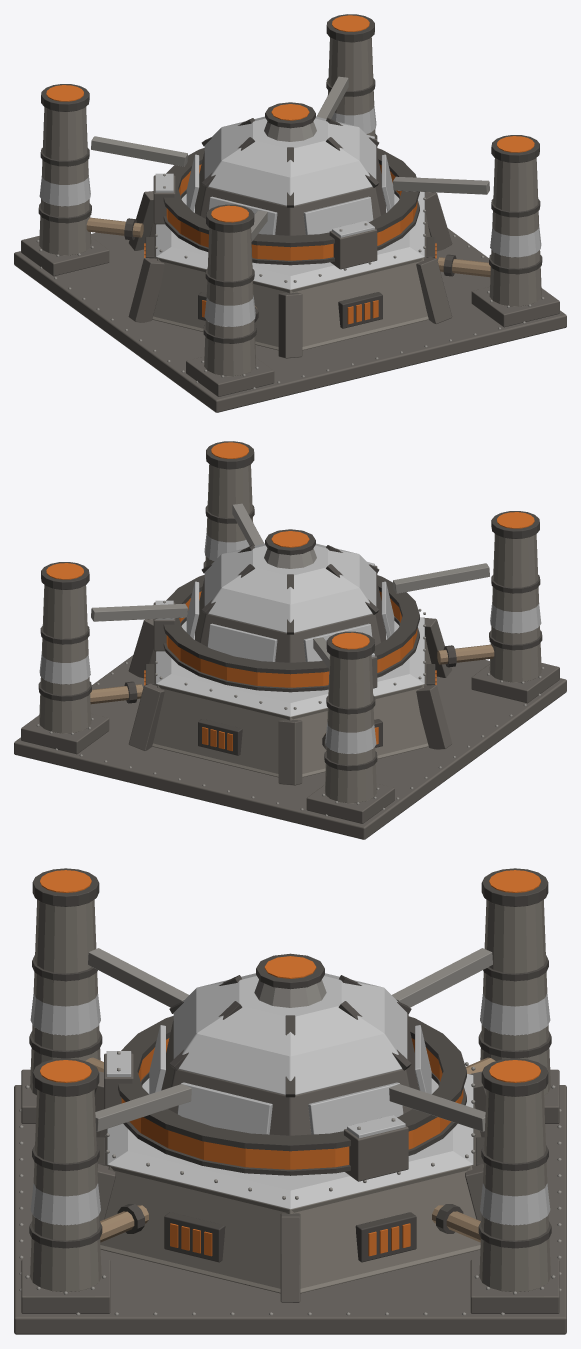
File: crucible_fusion_reactor.glb
3 views of the same model, one above another, from view 1: azimuth 30°, elevation 25°; view 2: azimuth 150°, elevation 25°; view 3: azimuth 270°, elevation 25° (orthographic). The views are drawn at different scales.
Parts seen in each view (by area): view 1: Body, Rotor_Y; view 2: Body, Rotor_Y; view 3: Body, Rotor_Y.
Part boxes in pixels (x1,y1,x2,y2): Body: (14,14,566,412); Rotor_Y: (153,135,419,269); Body: (14,441,566,839); Rotor_Y: (153,562,419,692); Body: (14,868,566,1334); Rotor_Y: (104,1013,466,1181).
Bounding box in the file's own units: 22.4 × 11.25 × 22.4.
